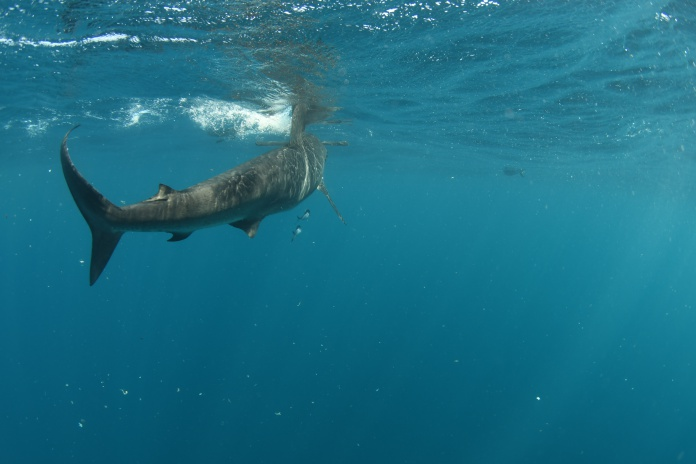Hammer: (46, 115, 359, 286)
